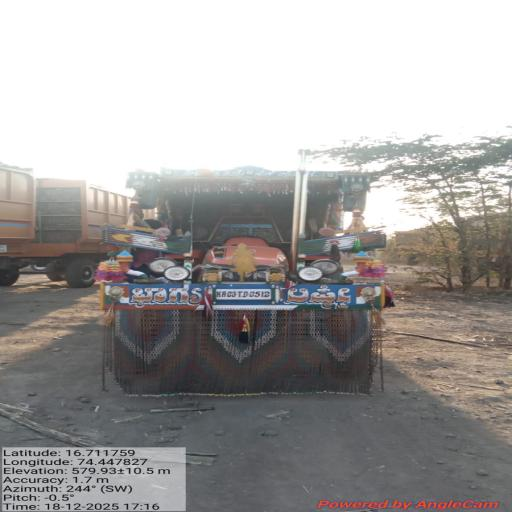number_plate: (216, 289, 271, 300), (0, 245, 7, 252)
